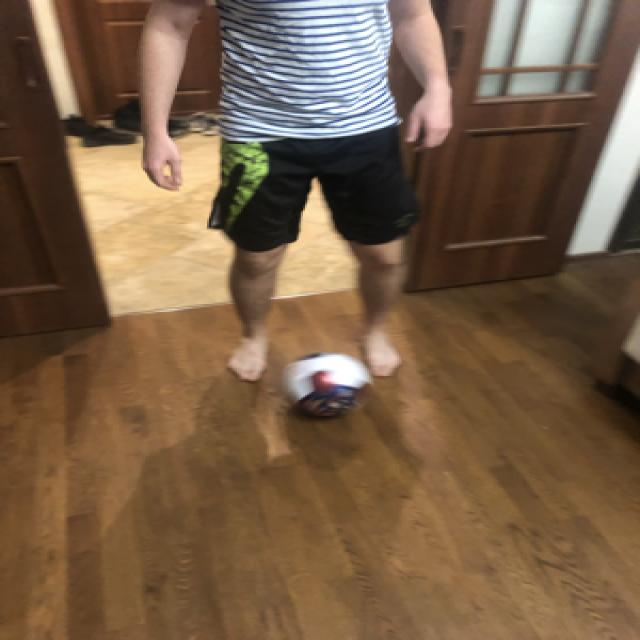soccer_ball: (275, 350, 369, 418)
